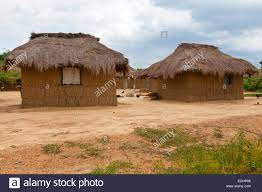Mud House: (8, 31, 129, 110), (144, 41, 252, 107)
